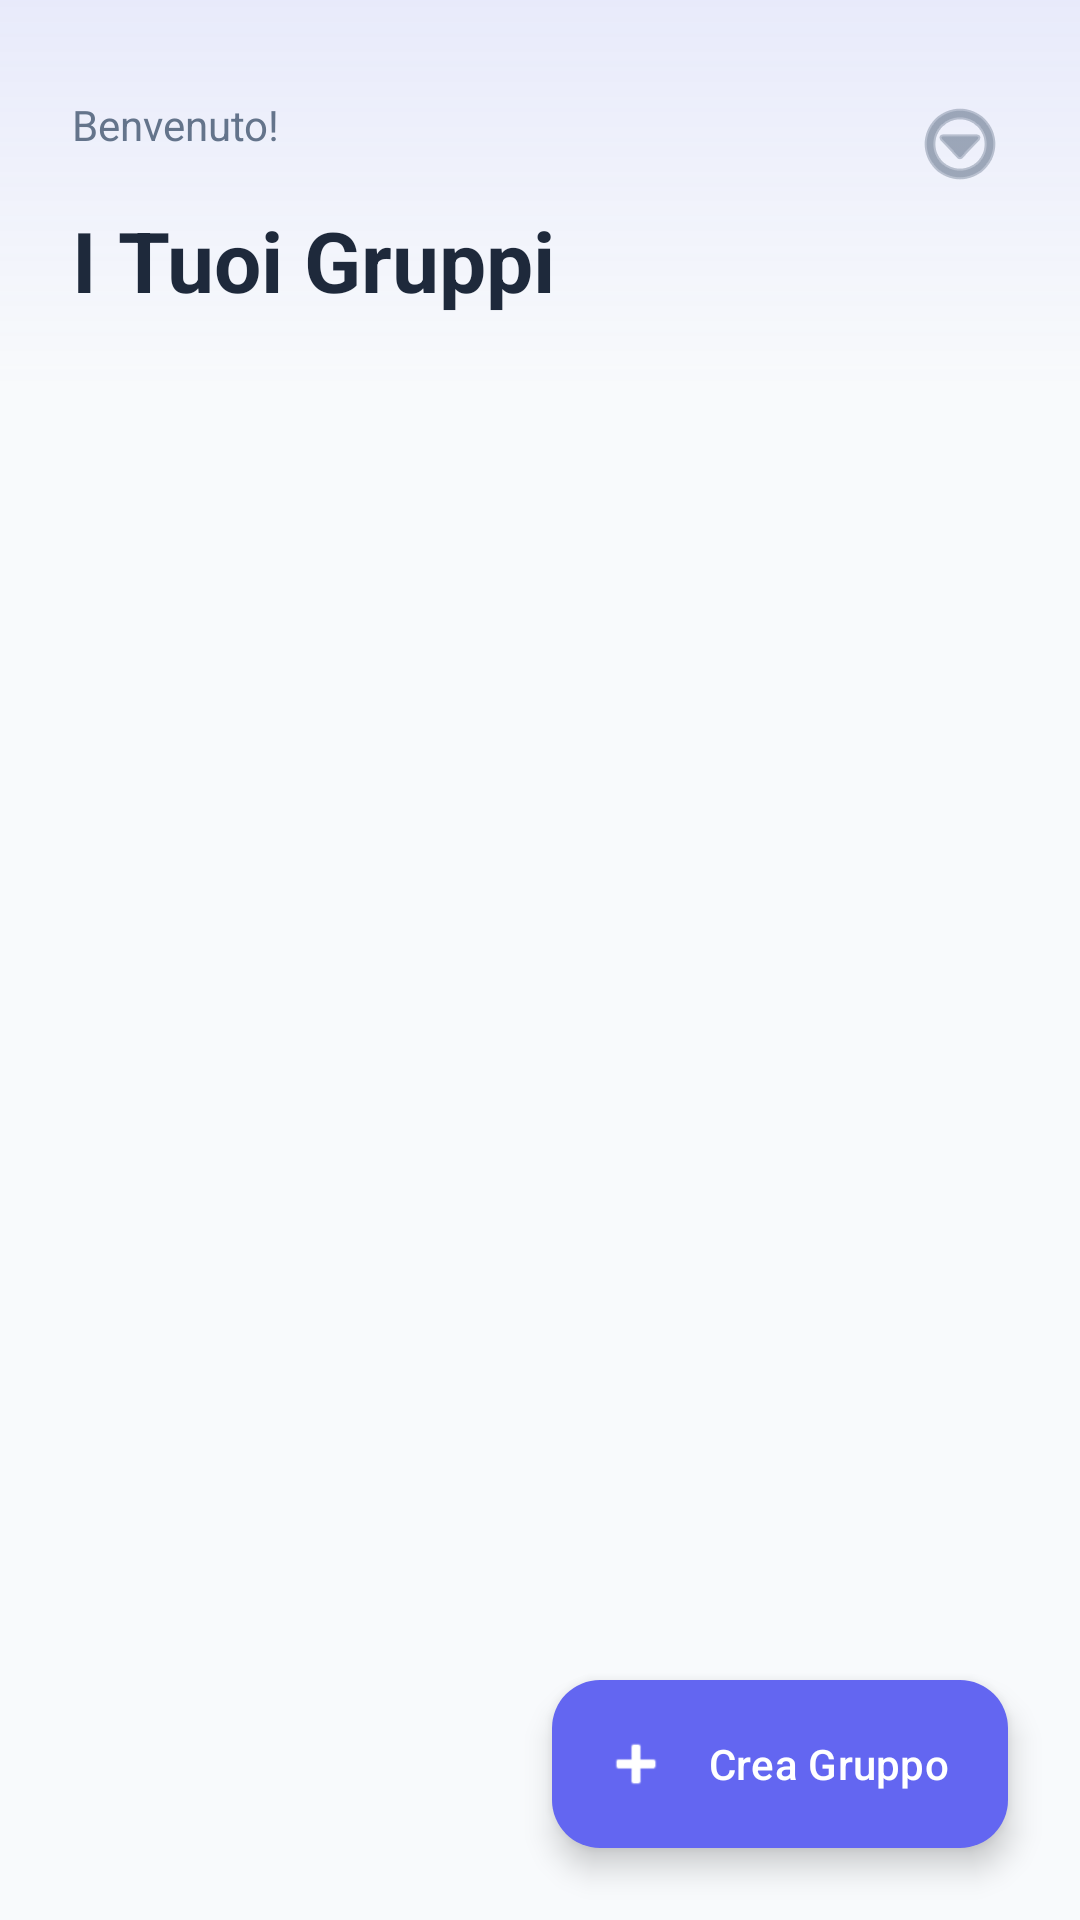

Named icons in this screenshot (1080*1920) and their bounding boxes, (x1, y1, x2, y2):
Opzioni: (925, 109, 995, 179)
